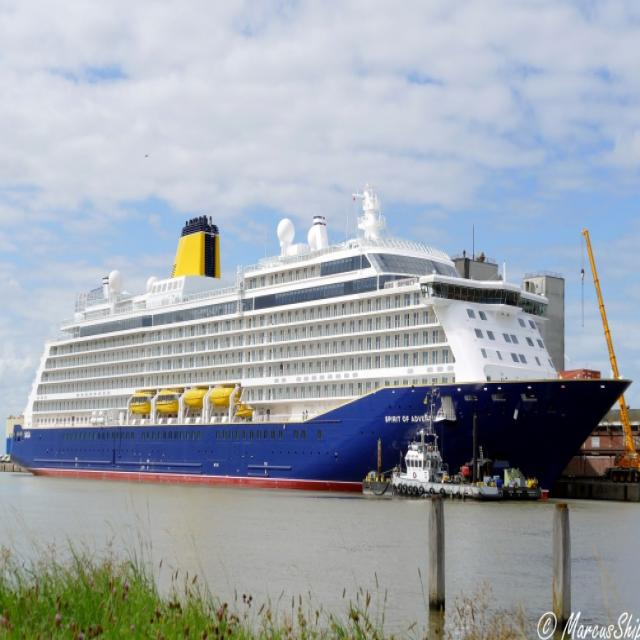cruises: (4, 185, 638, 510)
